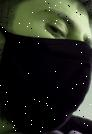with_mask: (2, 2, 92, 134)
